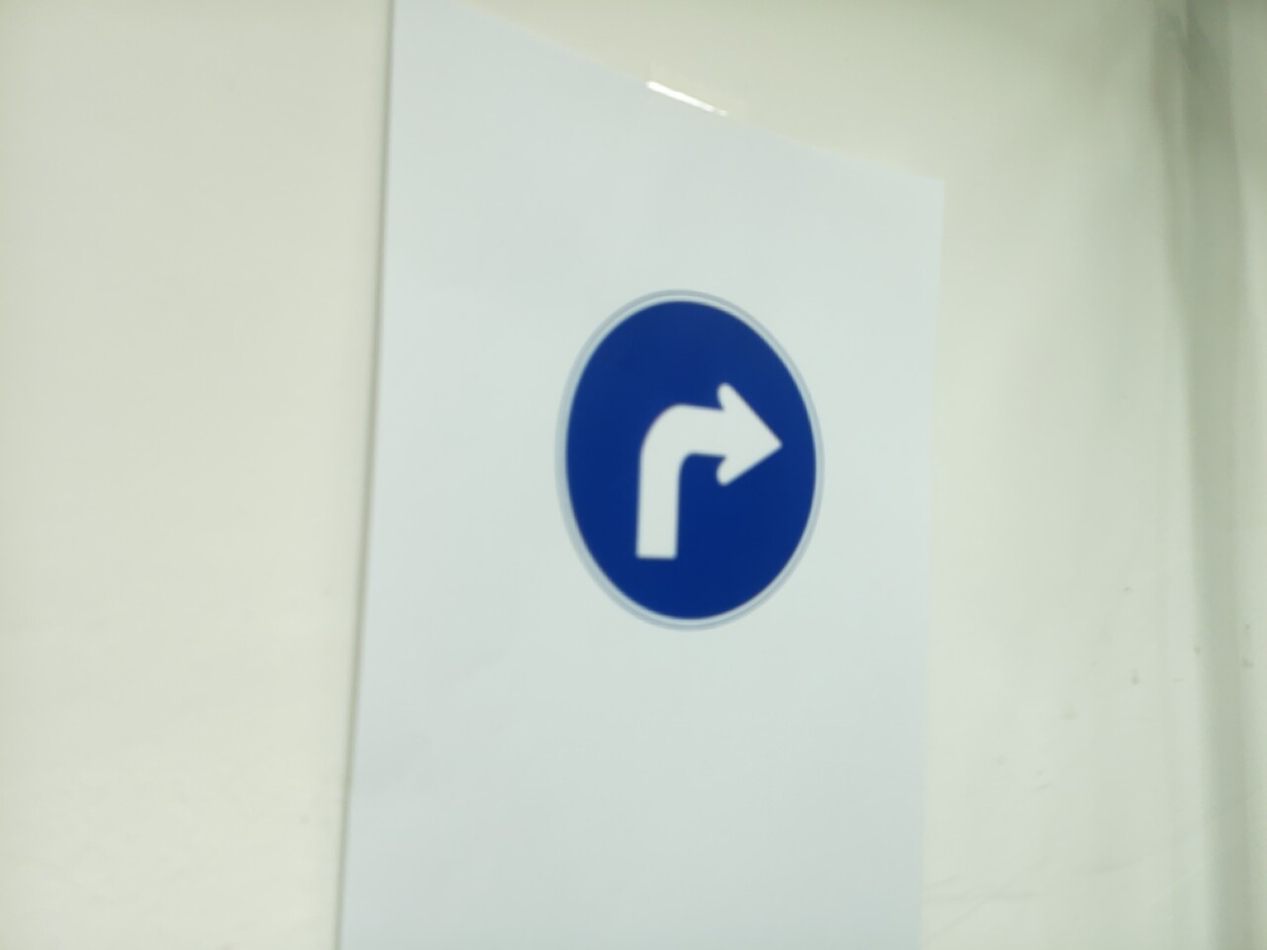right_turn: (556, 291, 826, 629)
